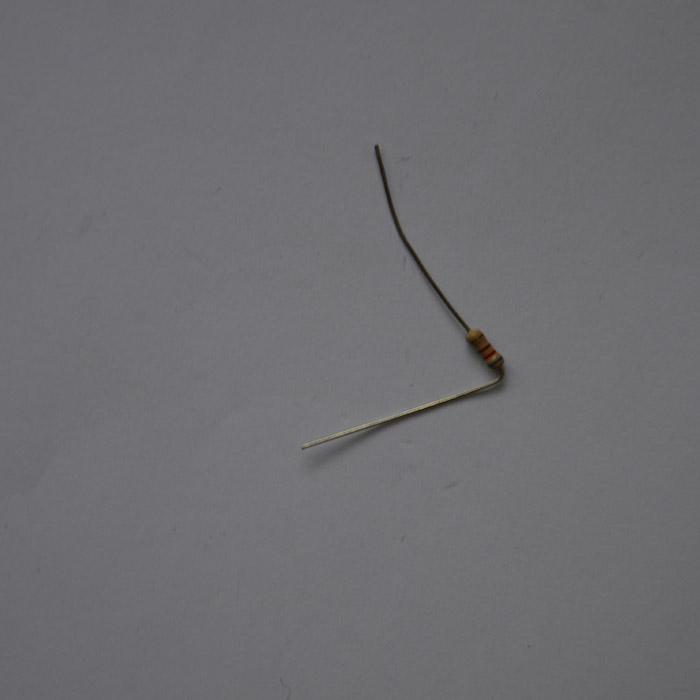resistor: (466, 327, 502, 370)
